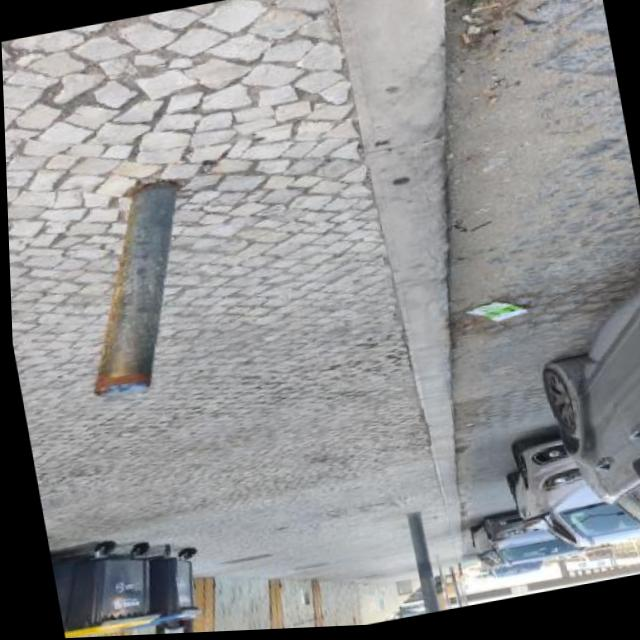cardboard: (463, 295, 531, 328)
